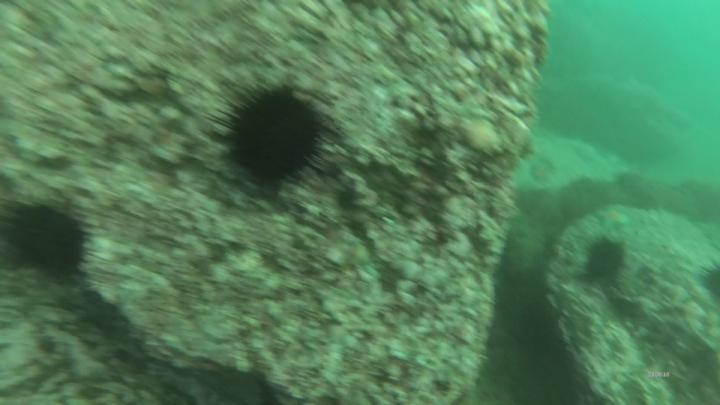echinus: (220, 87, 326, 193), (1, 203, 89, 282), (585, 234, 627, 285)
starfish: (595, 203, 632, 232)
